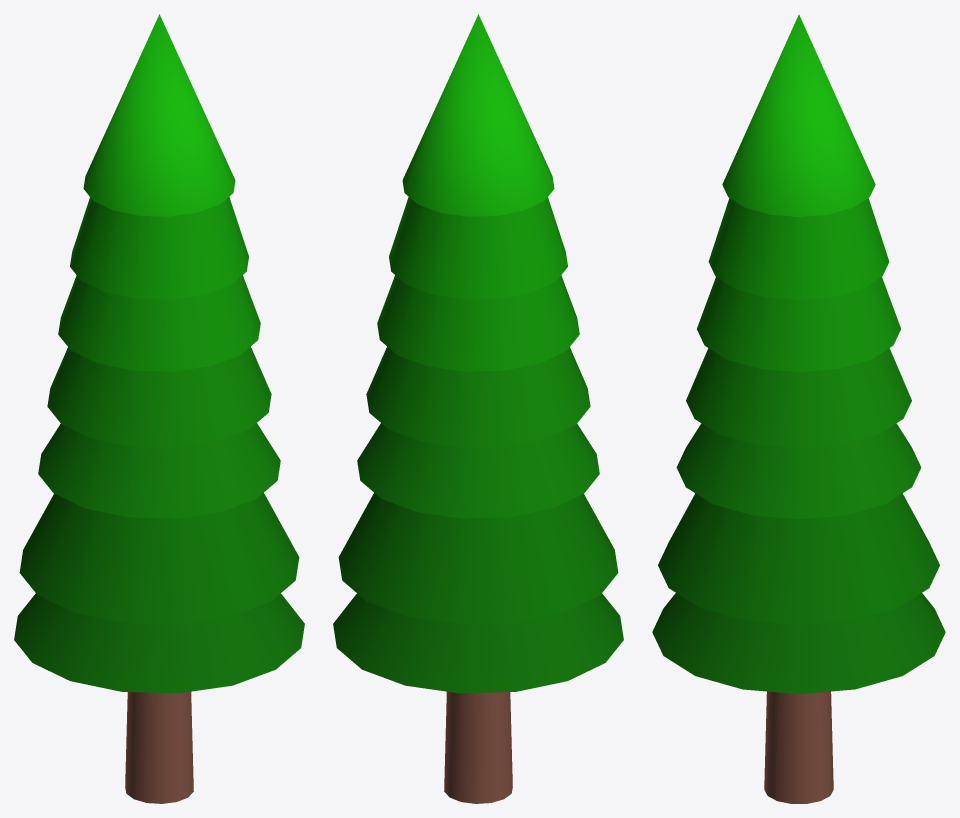
The model's file is Spruce_Cold_Green_Thin_2.fbx.
The picture shows the model from 3 angles, left to right: view 1: azimuth 30°, elevation 25°; view 2: azimuth 150°, elevation 25°; view 3: azimuth 270°, elevation 25°; orthographic projection.
Visible parts, largest first — view 1: Cylinder.958, Cylinder.959, Cylinder.957, Cylinder.956, Cylinder.954, Cylinder.955, Cylinder.961, Cylinder.960; view 2: Cylinder.958, Cylinder.959, Cylinder.957, Cylinder.956, Cylinder.954, Cylinder.955, Cylinder.961, Cylinder.960; view 3: Cylinder.958, Cylinder.959, Cylinder.957, Cylinder.956, Cylinder.954, Cylinder.955, Cylinder.961, Cylinder.960.
Part boxes in pixels (<box>): Cylinder.958: <box>19,493,299,624</box>; Cylinder.959: <box>14,593,304,693</box>; Cylinder.957: <box>83,14,235,216</box>; Cylinder.956: <box>38,423,280,518</box>; Cylinder.954: <box>47,346,271,447</box>; Cylinder.955: <box>58,275,260,371</box>; Cylinder.961: <box>70,197,248,299</box>; Cylinder.960: <box>125,691,193,803</box>; Cylinder.958: <box>338,493,618,624</box>; Cylinder.959: <box>333,593,623,693</box>; Cylinder.957: <box>402,14,554,216</box>; Cylinder.956: <box>357,423,599,518</box>; Cylinder.954: <box>366,346,590,447</box>; Cylinder.955: <box>377,275,579,371</box>; Cylinder.961: <box>389,197,567,299</box>; Cylinder.960: <box>444,691,512,803</box>; Cylinder.958: <box>658,493,939,624</box>; Cylinder.959: <box>652,593,945,694</box>; Cylinder.957: <box>722,14,875,216</box>; Cylinder.956: <box>676,423,921,519</box>; Cylinder.954: <box>686,348,911,448</box>; Cylinder.955: <box>697,277,900,372</box>; Cylinder.961: <box>708,198,889,299</box>; Cylinder.960: <box>764,691,833,803</box>.
Size of the model in its own units: 195 by 570 by 195.
